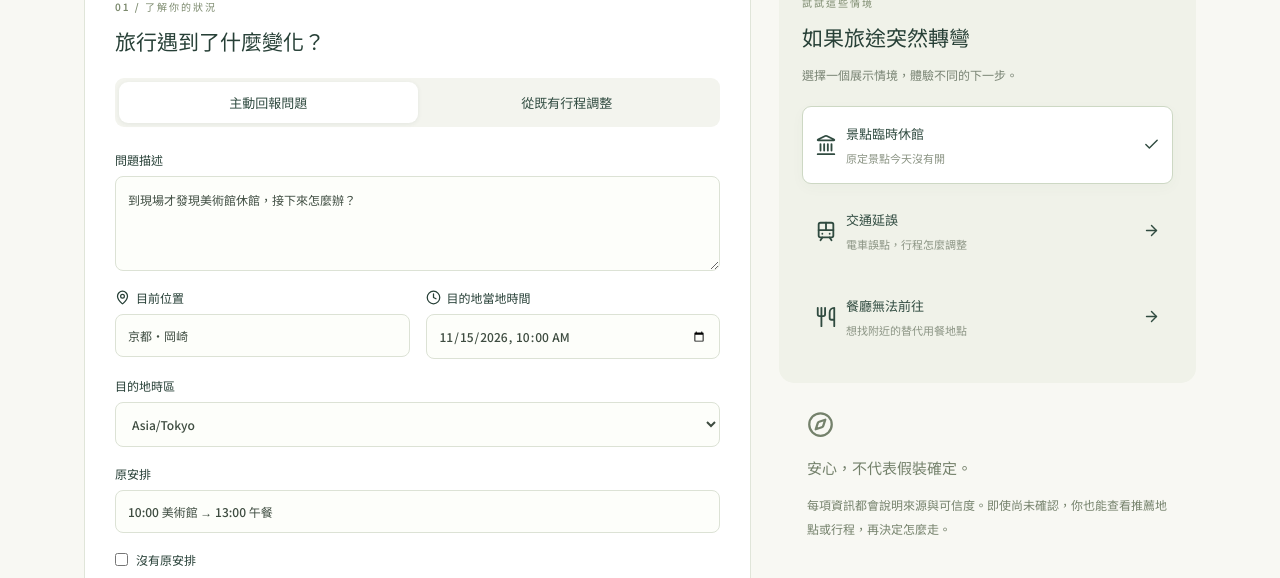
scenario 交通延誤 supports results and observation
Later steps or results of the test are not shown.
(page scrolled)
Click the button "交通延誤 電車誤點，行程怎麼調整" at (872, 219), box [802, 192, 1173, 270]
(page scrolled)
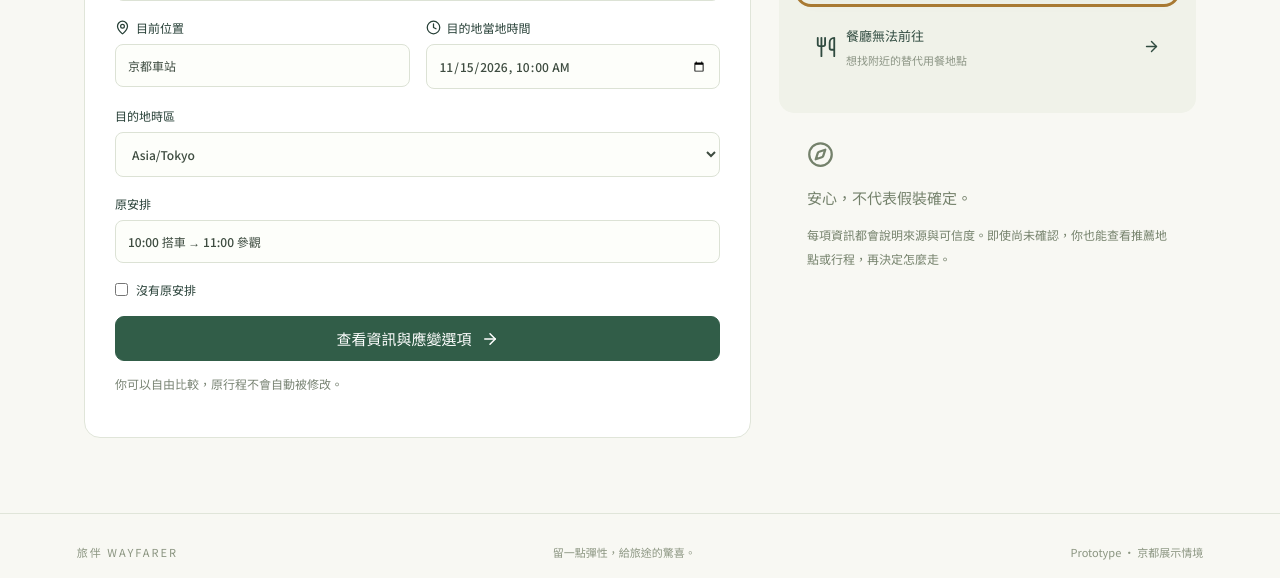
Click the button "查看資訊與應變選項" at (418, 338), box [115, 316, 720, 361]
(page scrolled)
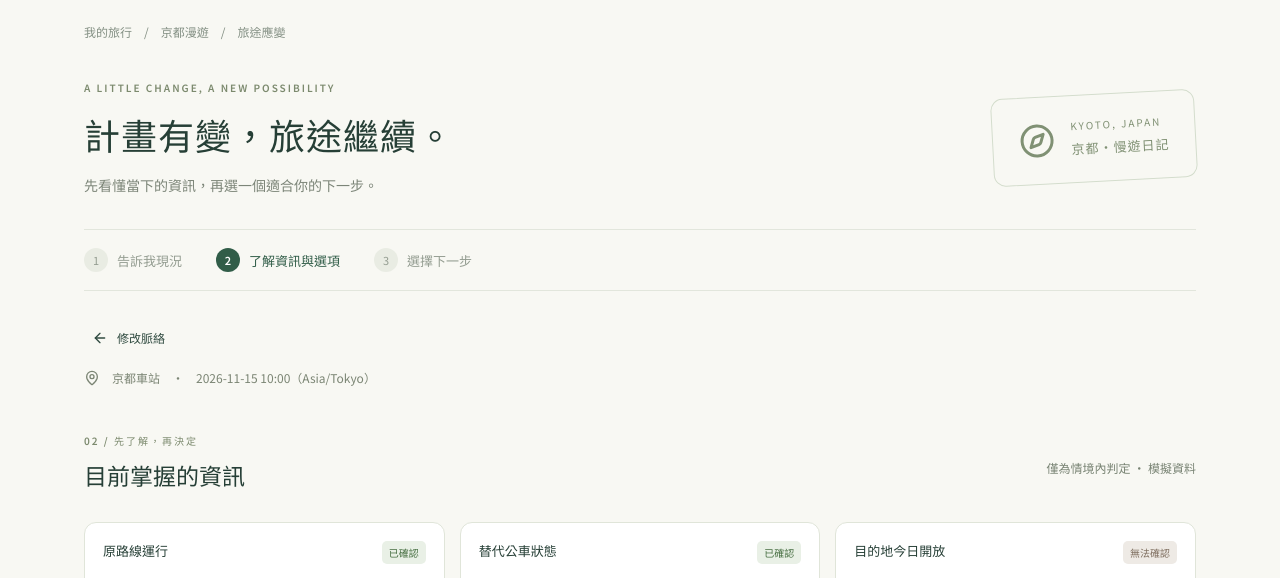
Check: the heading "目前掌握的資訊" is shown, box [84, 458, 245, 492]
